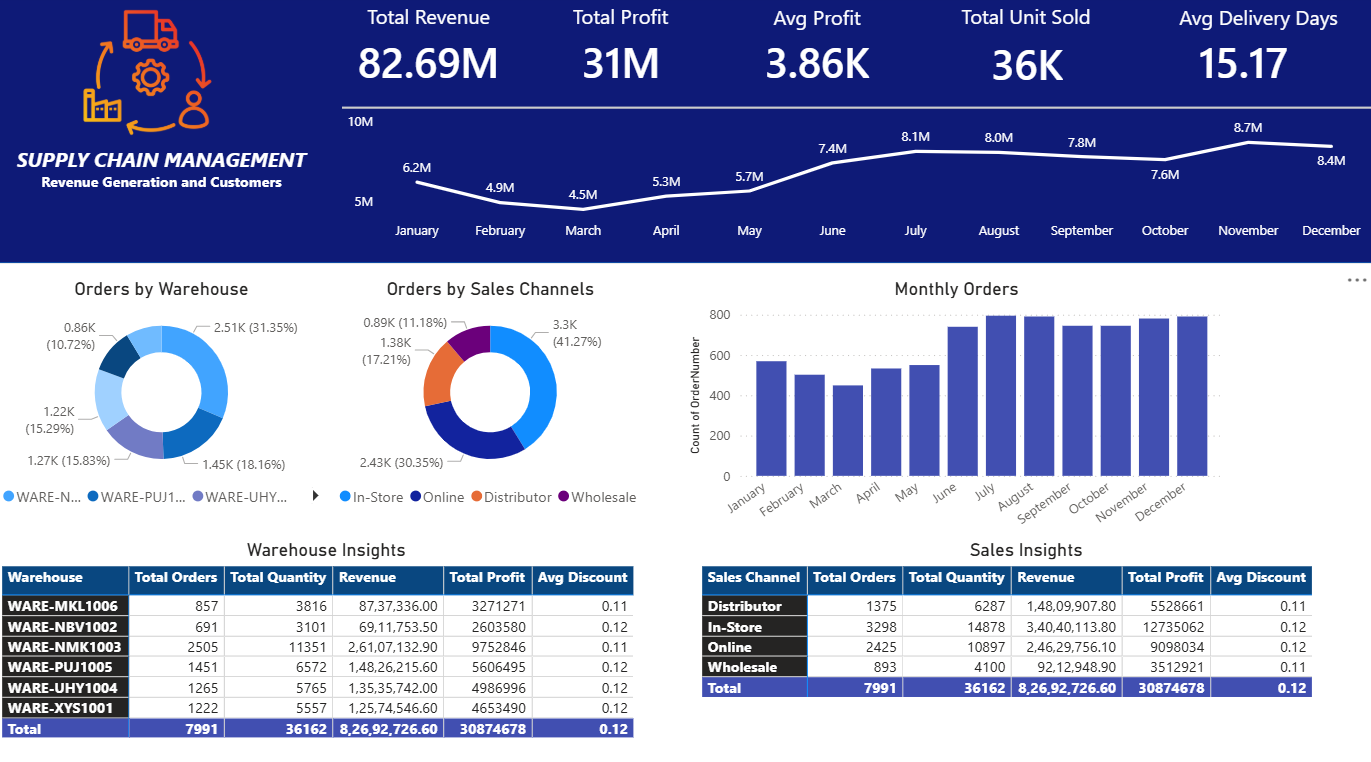

The page's visual inventory and layout, read from the dashboard file:
{"tool":"powerbi","page":{"name":"Page 1","canvas":[1280,720],"ordinal":0},"visuals":[{"type":"shape","box":[0,0,1280.3,249.7],"z":0},{"type":"textbox","box":[311.5,2,179.8,39.8],"z":0,"group":"g2"},{"type":"cardVisual","fields":{"Data":["Sum(main.Revenue)"]},"box":[293.7,11,214.1,100.2],"z":0,"group":"g1"},{"type":"textbox","box":[477.5,2,204.5,39.8],"z":1000,"group":"g2"},{"type":"image","box":[64.5,11,152.3,123.5],"z":1000},{"type":"cardVisual","fields":{"Data":["Sum(main.Profit)"]},"box":[458.4,11,242.9,100.2],"z":1000,"group":"g1"},{"type":"textbox","box":[658.7,3.4,207.2,39.8],"z":2000,"group":"g2"},{"type":"cardVisual","fields":{"Data":["Avg(main.Profit)"]},"box":[640.9,11,242.9,100.2],"z":2000,"group":"g1"},{"type":"textbox","box":[0,134.5,306,59],"z":2000},{"type":"textbox","box":[867.2,2,179.8,39.8],"z":3000,"group":"g2"},{"type":"group","id":"g1","title":"Group 1","box":[293.7,11,986.6,101.5],"z":3000},{"type":"cardVisual","fields":{"Data":["Sum(main.Order Quantity)"]},"box":[837.1,12.4,242.9,100.2],"z":3000,"group":"g1"},{"type":"group","id":"g2","title":"Group 2","box":[311.5,2,967.4,41.2],"z":4000},{"type":"textbox","box":[1068.3,3.2,209.9,38.4],"z":4000,"group":"g2"},{"type":"cardVisual","fields":{"Data":["Avg(main.Delivery Days)"]},"box":[1037.4,11,242.9,100.2],"z":4000,"group":"g1"},{"type":"lineChart","fields":{"Category":["main.OrderDate.Variation.Date Hierarchy.Year","main.OrderDate.Variation.Date Hierarchy.Quarter","main.OrderDate.Variation.Date Hierarchy.Month","main.OrderDate.Variation.Date Hierarchy.Day"],"Y":["Sum(main.Revenue)"]},"box":[321.2,103.8,957.5,133.8],"z":5000},{"type":"shape","box":[321.1,57.6,959.2,93.3],"z":6000},{"type":"donutChart","title":"Orders by Warehouse","fields":{"Category":["main.WarehouseCode"],"Y":["CountNonNull(main.OrderNumber)"]},"box":[0,263,306.2,222.5],"z":7000},{"type":"donutChart","title":"Orders by Sales Channels","fields":{"Category":["main.Sales Channel"],"Y":["CountNonNull(main.OrderNumber)"]},"box":[306.3,263,306.2,222.5],"z":8000},{"type":"columnChart","title":"Monthly Orders","fields":{"Y":["CountNonNull(main.OrderNumber)"],"Category":["main.OrderDate.Variation.Date Hierarchy.Month"]},"box":[640,262.5,506.2,262.5],"z":9000},{"type":"pivotTable","title":"Warehouse Insights","fields":{"Values":["CountNonNull(main.OrderNumber)","Sum(main.Order Quantity)","Sum(main.Revenue)","Sum(main.Profit)","Avg(main.Discount Applied)"],"Rows":["main.WarehouseCode"]},"box":[0,506.2,612.5,213.8],"z":10000},{"type":"pivotTable","title":"Sales Insights","fields":{"Values":["CountNonNull(main.OrderNumber)","Sum(main.Order Quantity)","Sum(main.Revenue)","Sum(main.Profit)","Avg(main.Discount Applied)"],"Rows":["main.Sales Channel"]},"box":[651.2,506.2,612.5,213.8],"z":10001}]}

Visuals, with their boxes in screenshot pixels (x1, y1, x2, y2), scaled from the page's 1280x720 canvas onto the 1371x762 screenshot:
shape: <region>0, 0, 1370, 264</region>
textbox: <region>334, 2, 526, 44</region>
cardVisual - Sum(main.Revenue): <region>315, 12, 544, 118</region>
textbox: <region>511, 2, 730, 44</region>
image: <region>69, 12, 232, 142</region>
cardVisual - Sum(main.Profit): <region>491, 12, 751, 118</region>
textbox: <region>706, 4, 927, 46</region>
cardVisual - Avg(main.Profit): <region>686, 12, 947, 118</region>
textbox: <region>0, 142, 328, 205</region>
textbox: <region>929, 2, 1121, 44</region>
"Group 1" group: <region>315, 12, 1370, 119</region>
cardVisual - Sum(main.Order Quantity): <region>897, 13, 1157, 119</region>
"Group 2" group: <region>334, 2, 1370, 46</region>
textbox: <region>1144, 3, 1369, 44</region>
cardVisual - Avg(main.Delivery Days): <region>1111, 12, 1370, 118</region>
lineChart - main.OrderDate.Variation.Date Hierarchy.Year x main.OrderDate.Variation.Date Hierarchy.Quarter: <region>344, 110, 1370, 251</region>
shape: <region>344, 61, 1370, 160</region>
"Orders by Warehouse" donutChart: <region>0, 278, 328, 514</region>
"Orders by Sales Channels" donutChart: <region>328, 278, 656, 514</region>
"Monthly Orders" columnChart: <region>686, 278, 1228, 556</region>
"Warehouse Insights" pivotTable: <region>0, 536, 656, 761</region>
"Sales Insights" pivotTable: <region>697, 536, 1354, 761</region>
